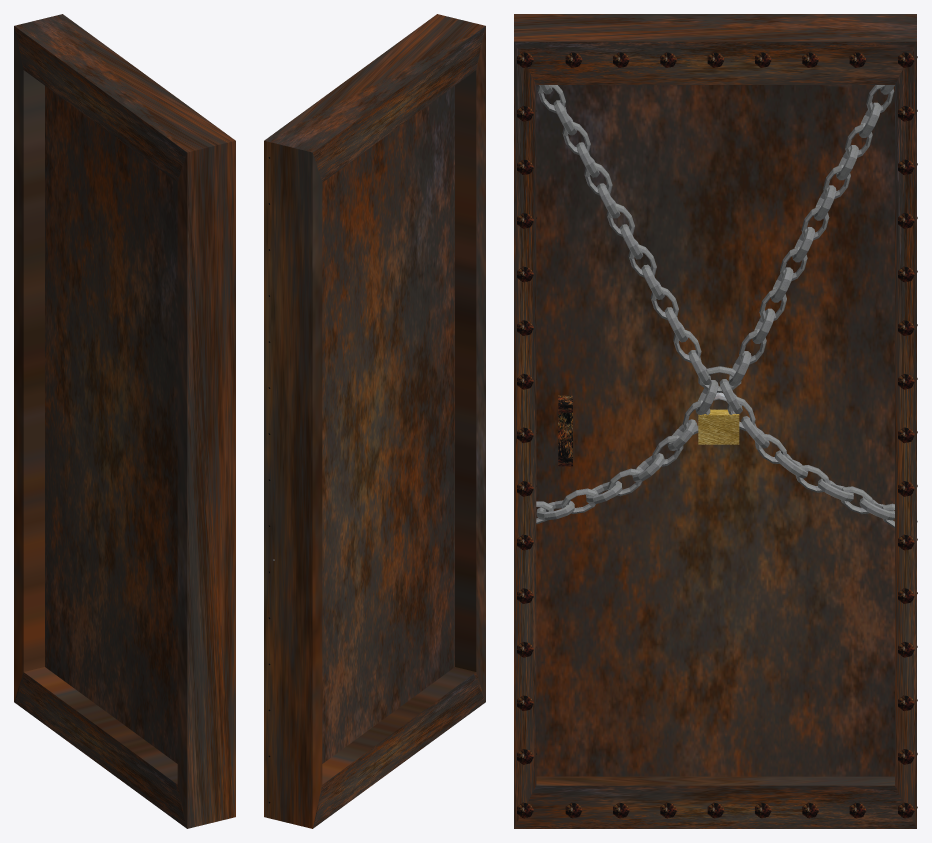
The model's file is RustedDoorsChainedClosed.obj.
3 renders of one model, left to right at view 1: azimuth 30°, elevation 25°; view 2: azimuth 150°, elevation 25°; view 3: azimuth 270°, elevation 25°, orthographic. The views are drawn at different scales.
Visible parts, largest first — view 1: Cube; view 2: Cube; view 3: Cube, Cube.004.
Boxes of the visible parts, <box> form: Cube: <box>14,14,235,828</box>; Cube: <box>264,14,485,828</box>; Cube: <box>514,14,916,828</box>; Cube.004: <box>698,409,739,444</box>.
Bounding box in the file's own units: 0.5938 × 7.35 × 3.41.
